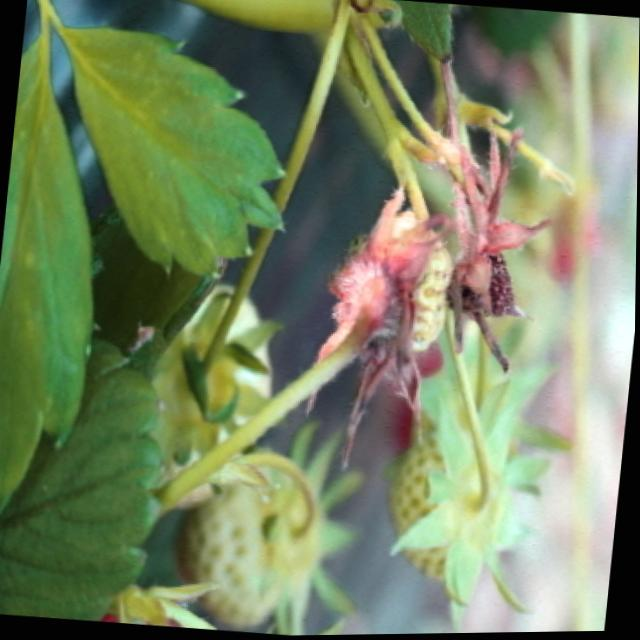Gray Mold: (446, 131, 553, 374)
